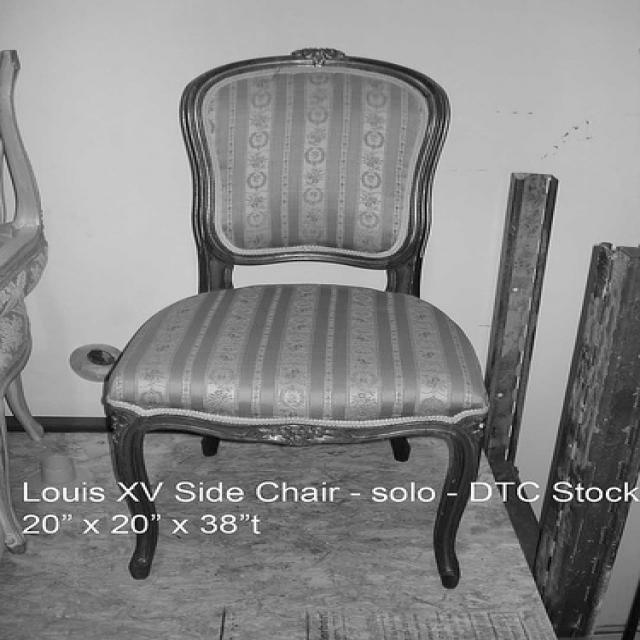chair: (101, 40, 490, 588)
